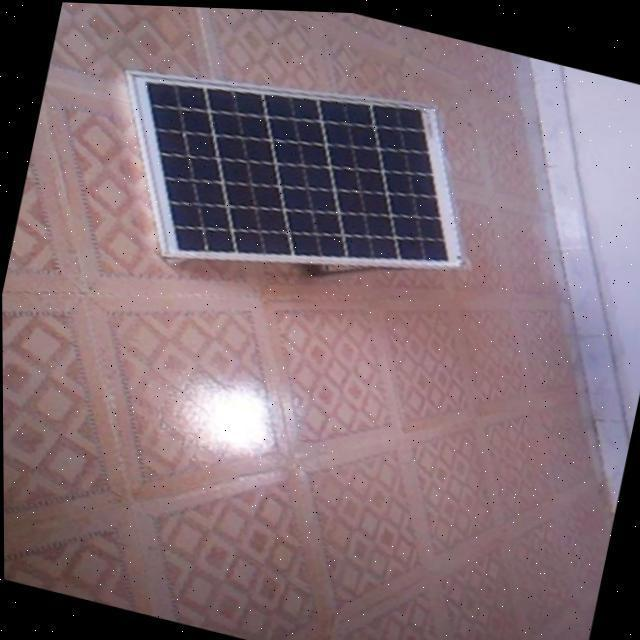Normal Solar Panel: (89, 29, 492, 322)
